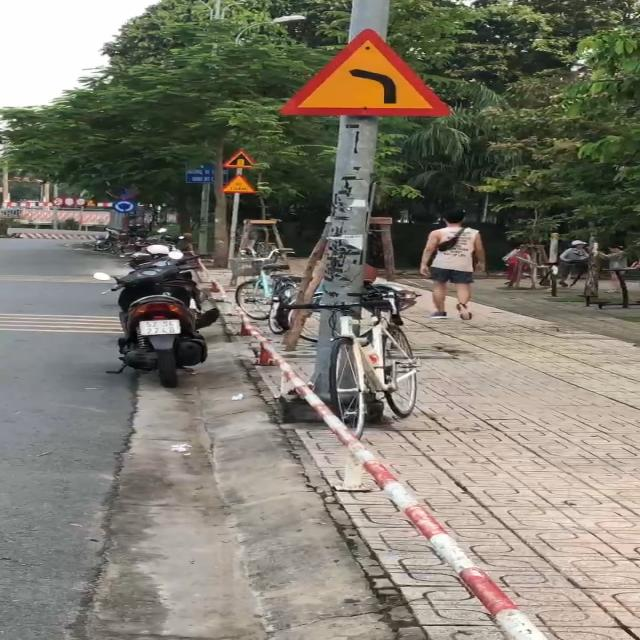Bien bao cho ngoat nguy hiem: (261, 29, 488, 128)
Bien bao di cham: (212, 173, 270, 200)
Bien bao noi giao nhau chay theo vong xuyen: (108, 200, 138, 214)
